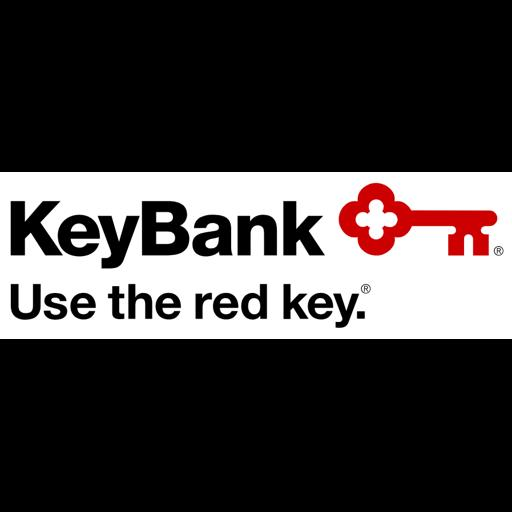Key Bank: (0, 172, 512, 339)
